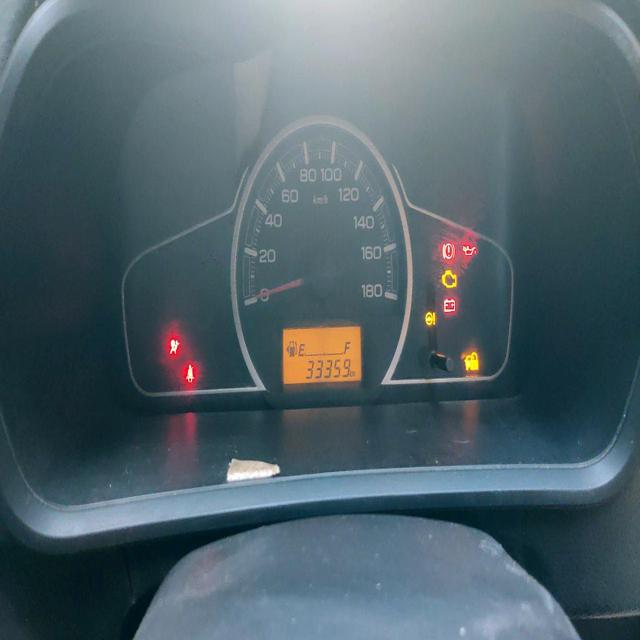odometer: (304, 351, 353, 384)
